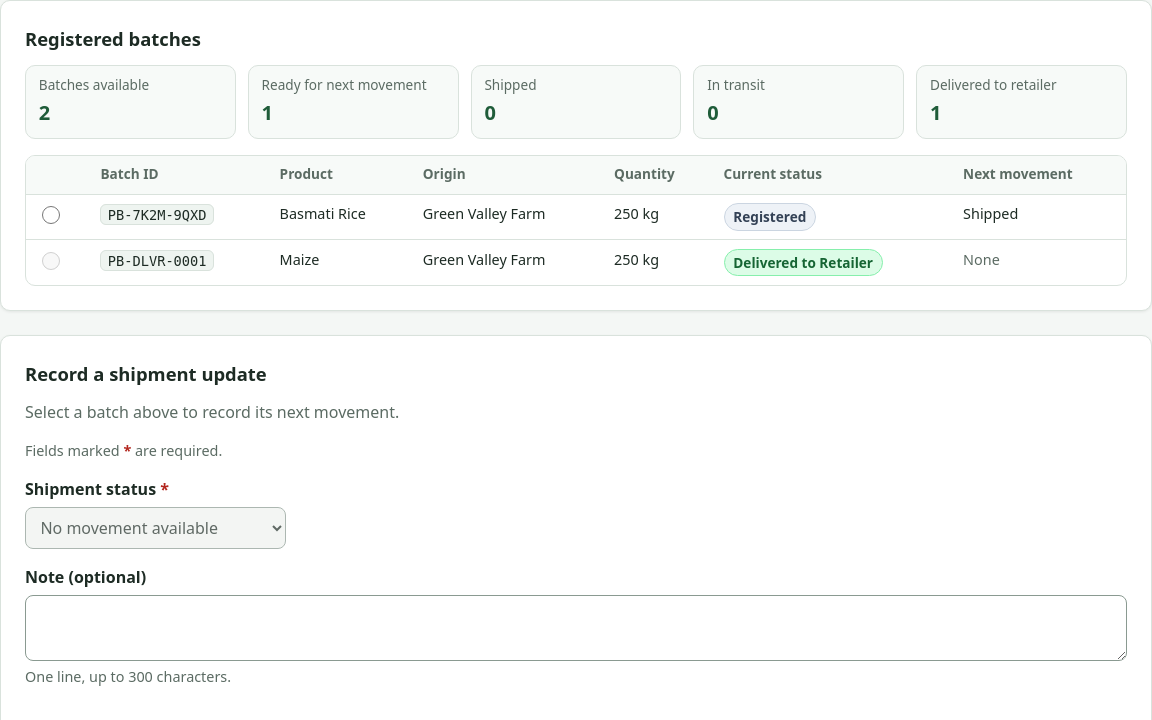
DistributorShipmentPanel › shows the details of the selected batch and a link to its public tracking page
The width and height of the screenshot is (1152, 720).
Expected: the table is shown, left=26, top=156, right=1126, bottom=285
Step 1. Click the radio button named "Select batch PB-7K2M-9QXD" → coordinates (51, 215), box left=42, top=206, right=60, bottom=224
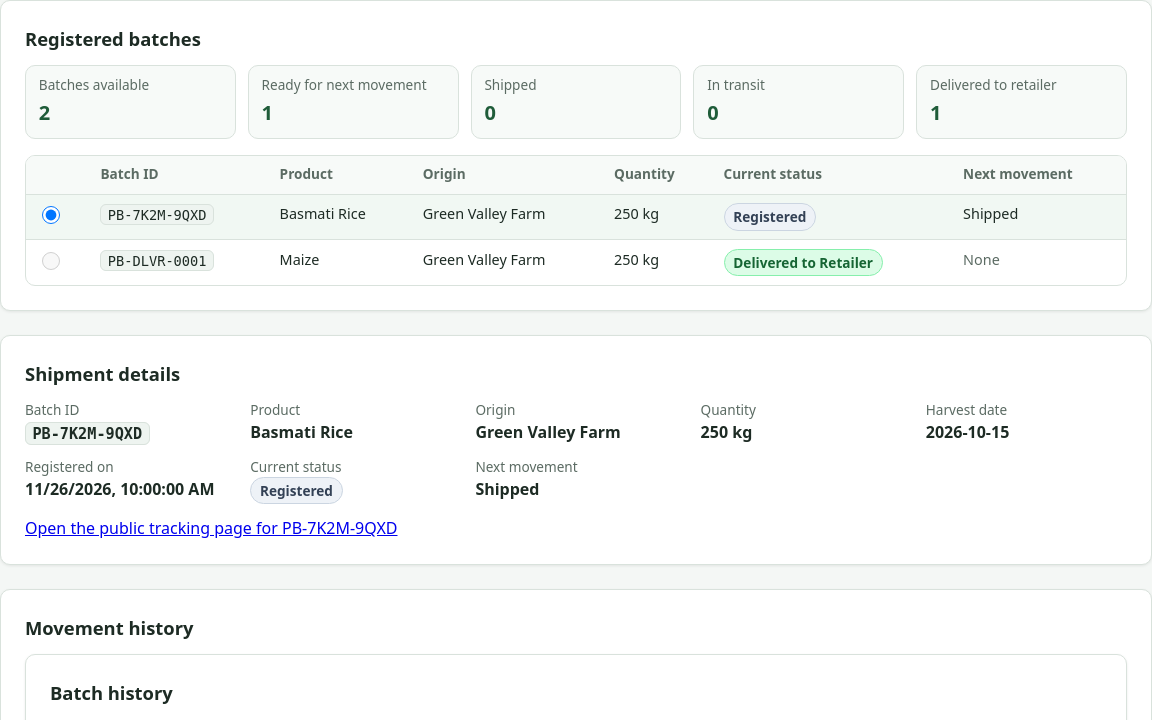
Result: the text "Green Valley Farm" is shown at left=475, top=421, right=621, bottom=443
Result: the text "2026-10-15" is shown at left=926, top=421, right=1009, bottom=443
Result: the text "Shipped" in the row of "11/26/2026, 10:00:00 AM" is shown at left=475, top=478, right=540, bottom=500
